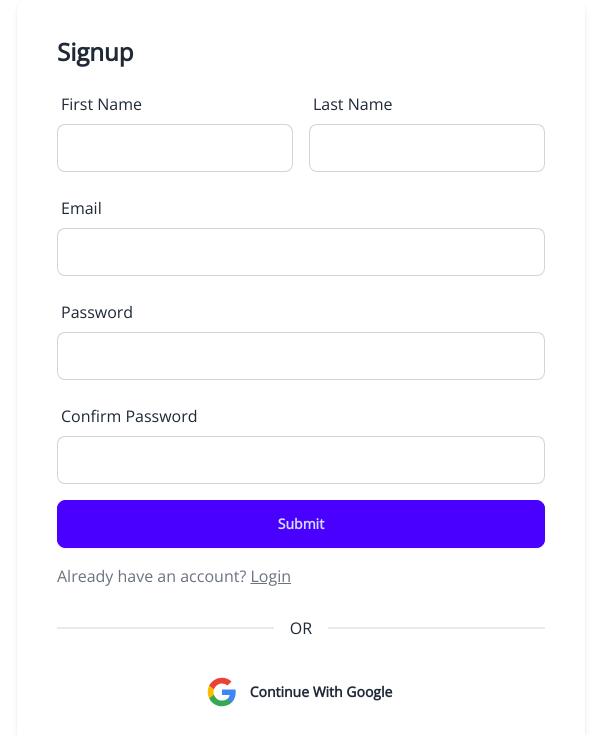
/signup › should show error for existing email
Type "John" into the field with id "firstName".
click(175, 148); type("John")  # box [57, 124, 293, 172]
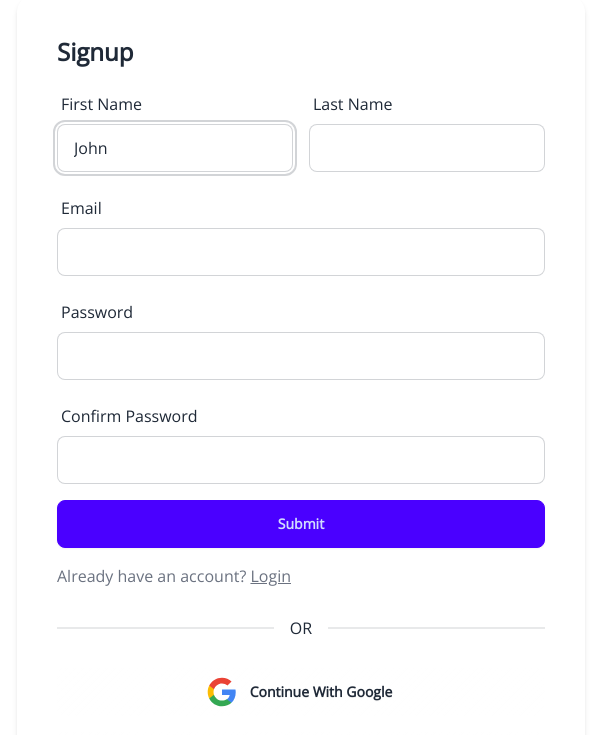
Type "Doe" into the field with id "lastName".
click(427, 148); type("Doe")  # box [309, 124, 545, 172]
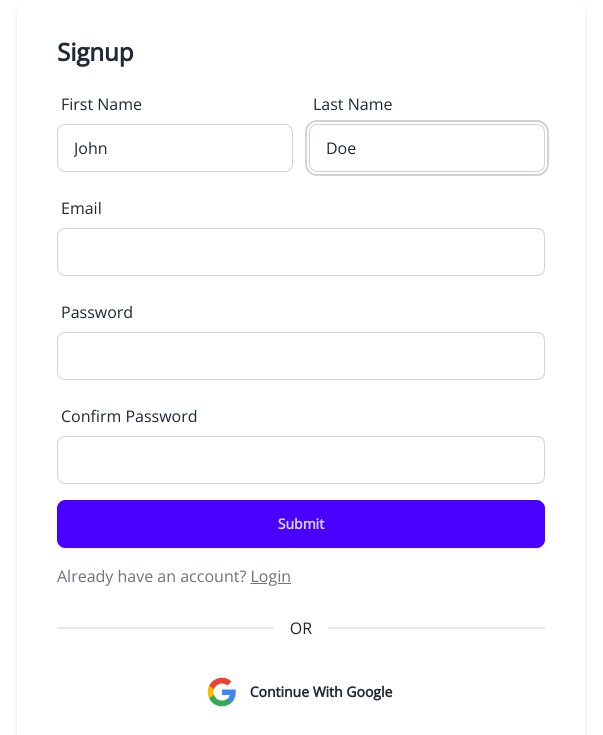
Type "existing@example.com" into the field with id "email".
click(301, 252); type("existing@example.com")  # box [57, 228, 545, 276]
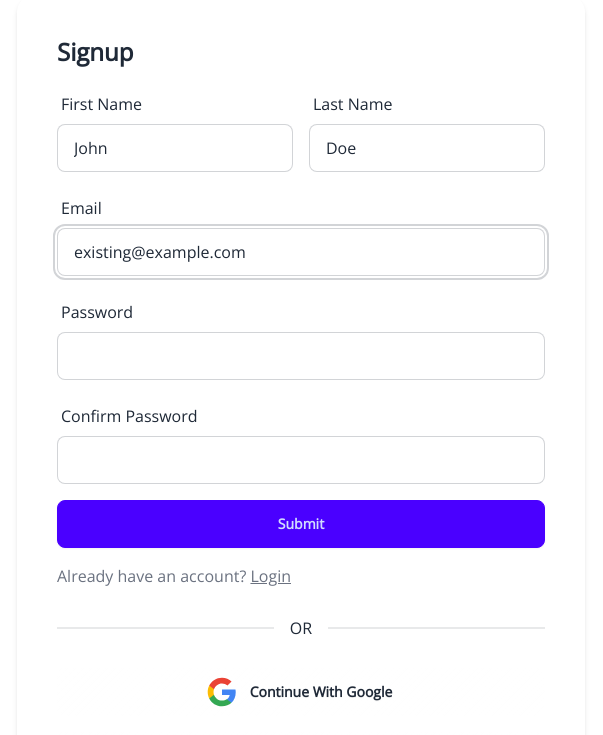
Type "Password123" into the password field labelled "Password".
click(301, 356); type("Password123")  # box [57, 332, 545, 380]
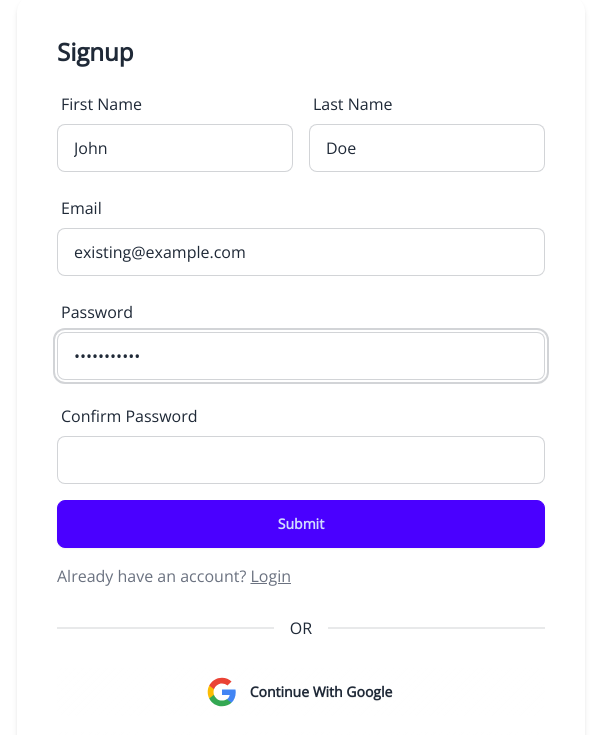
Type "Password123" into the password field with id "confirmPassword".
click(301, 460); type("Password123")  # box [57, 436, 545, 484]
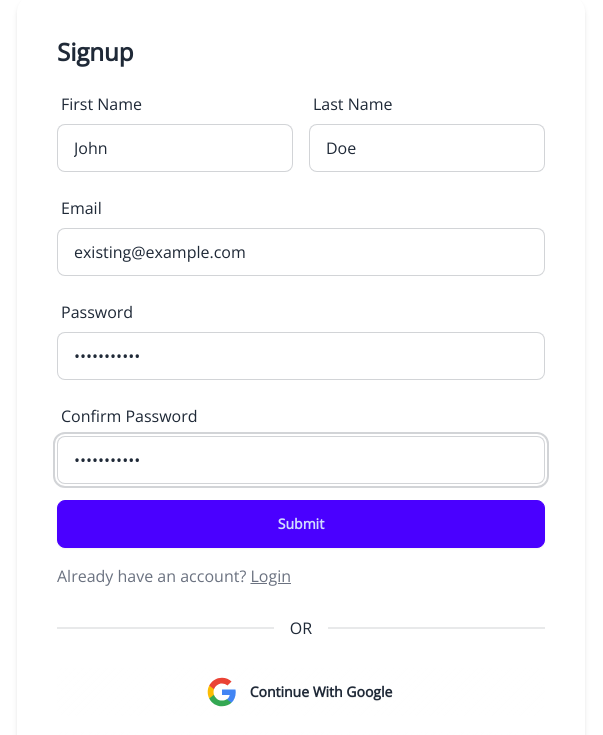
Click the button "Submit".
click(301, 524)  # box [57, 500, 545, 548]
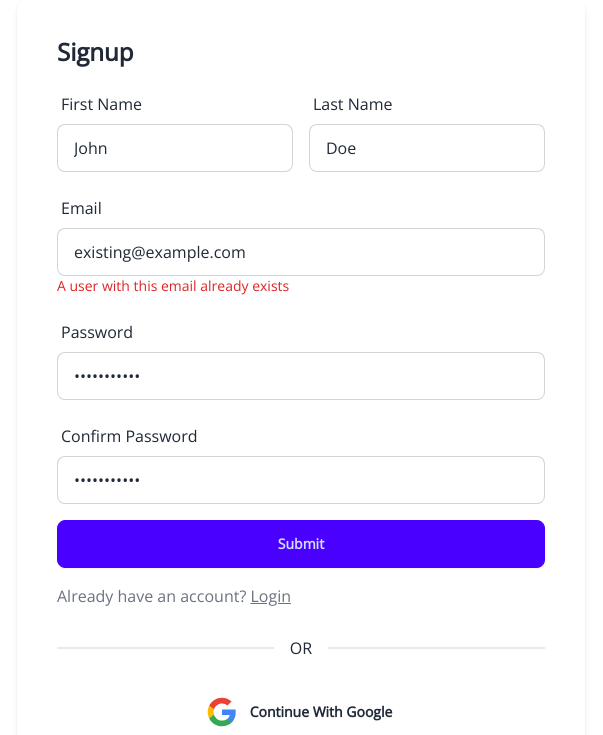
Expected: the text "A user with this email already exists" is shown, [57, 276, 289, 295]
